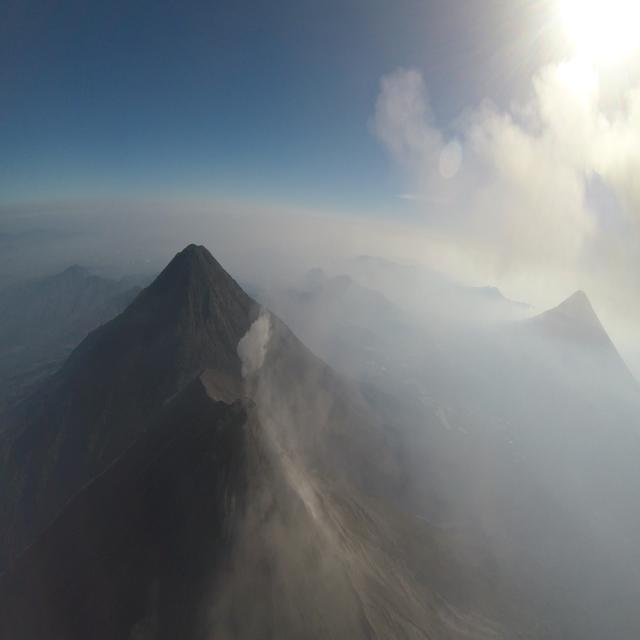Plume: (372, 46, 640, 216), (232, 307, 274, 378)
Summit: (226, 390, 266, 425)
